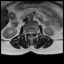CCS_normal: (30, 30, 32, 37)
LFS_stenosis: (34, 30, 35, 35)
LLS_normal: (32, 30, 33, 35)
RFS_stenosis: (27, 30, 28, 35)
RLS_normal: (28, 30, 30, 35)
